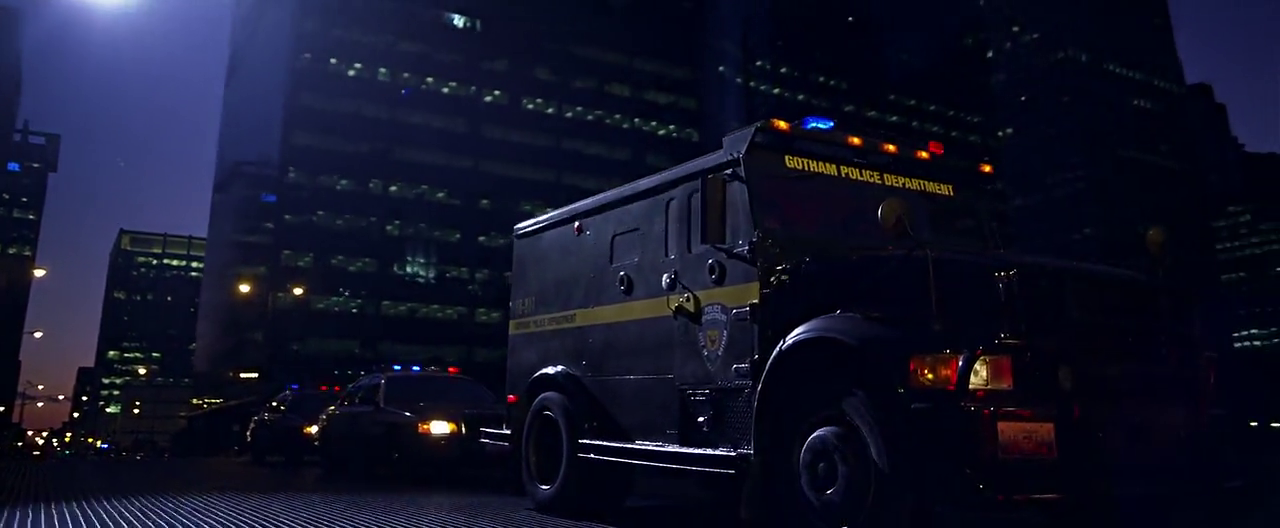car: (319, 363, 517, 484)
